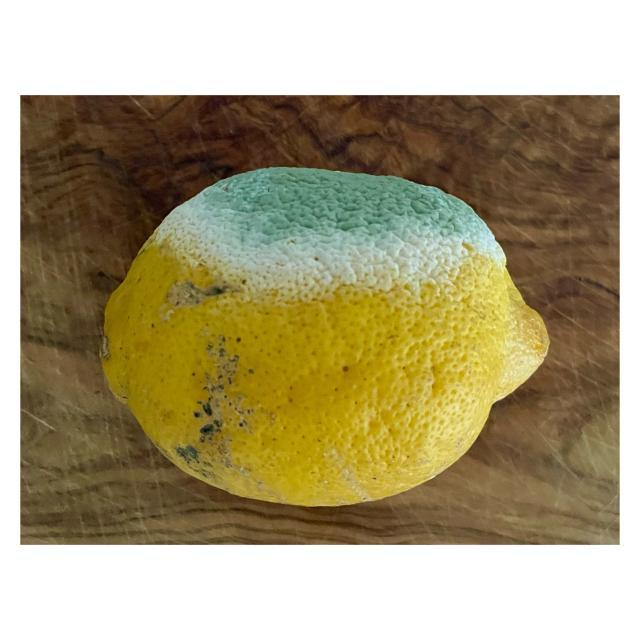Rotten: (99, 162, 553, 508)
